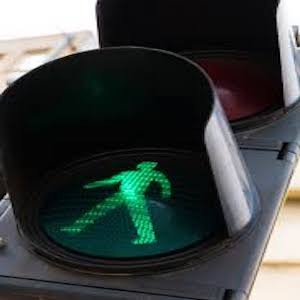green: (57, 149, 173, 249)
